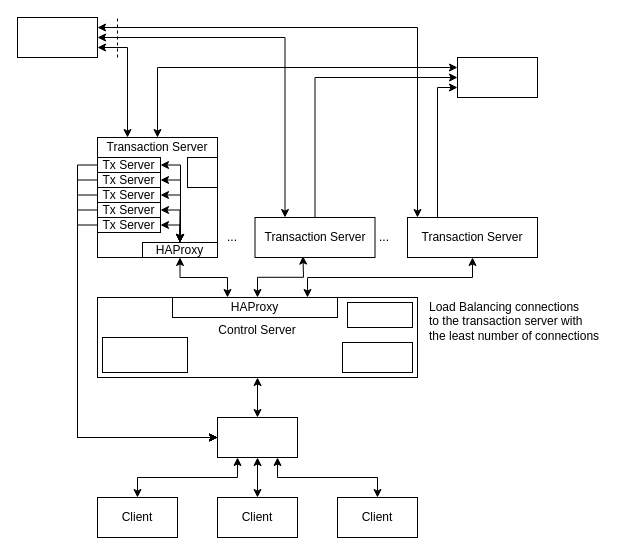
This 635x555 diagram has some shape labels left out. Here are the shapes that lost their labels. From the top down, the centre of each, then its label:
the point at 57,37: Quote Server
the point at 497,77: Database(s)
the point at 202,172: Log DB
the point at 379,315: user_db
the point at 145,354: Quote Cache Server
the point at 377,357: Log Server
the point at 257,437: Web Server
